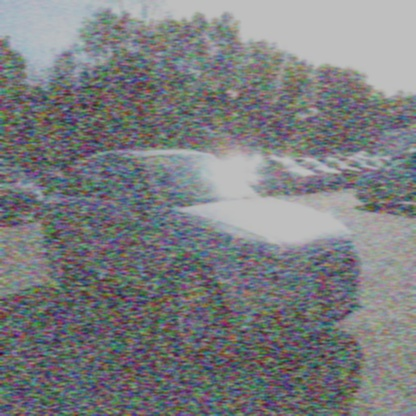Vehicle: (39, 149, 367, 366)
